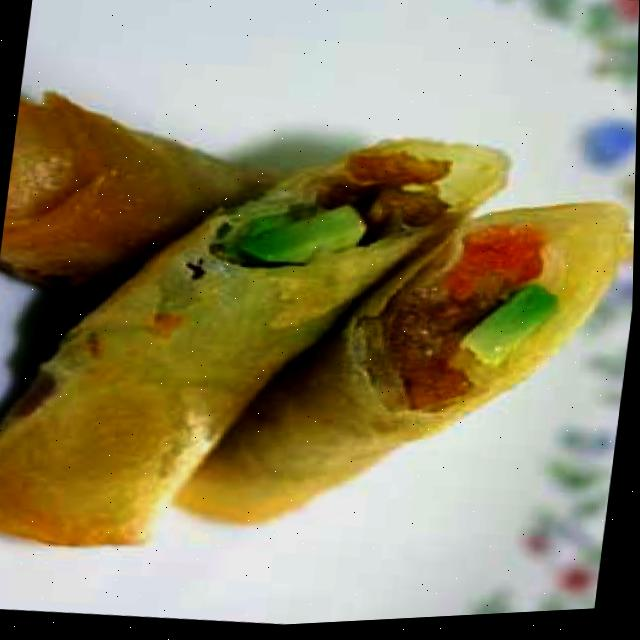鸡蛋料理: (0, 57, 639, 617)
